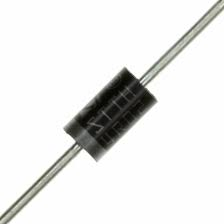diode: (33, 43, 181, 217)
